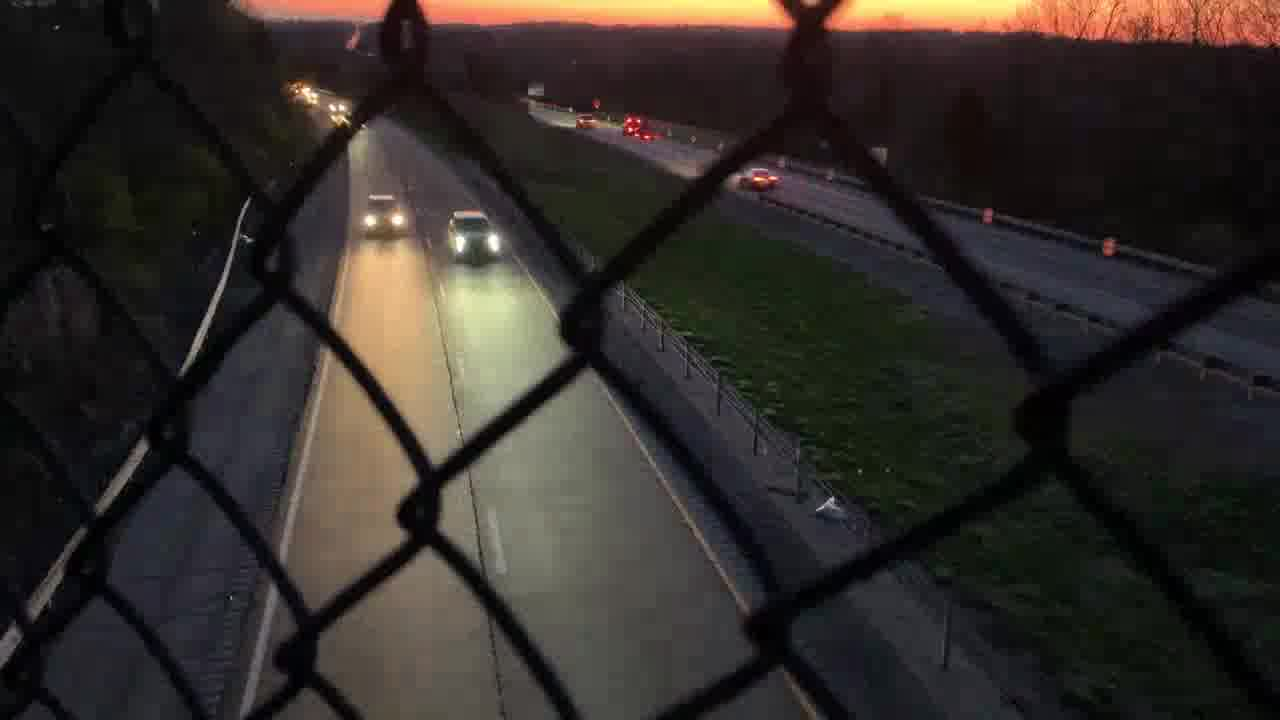heavyTruck: (620, 116, 663, 144)
largeCar: (440, 213, 513, 269), (357, 192, 413, 244), (575, 114, 598, 131)
smallCar: (736, 167, 782, 194)
